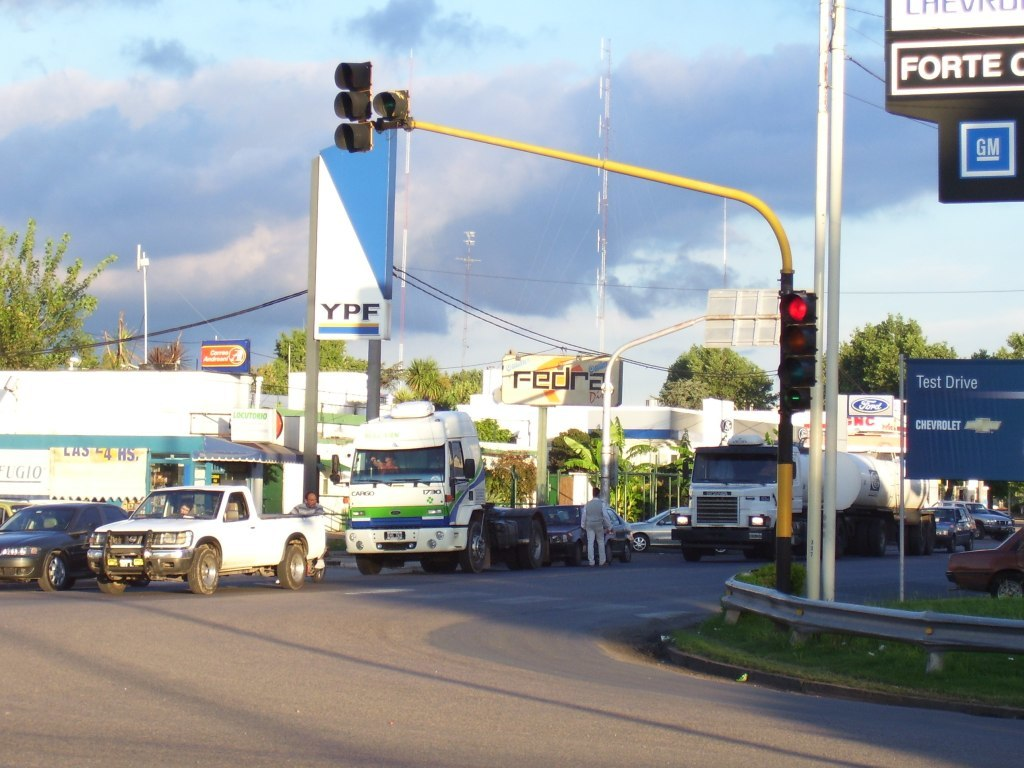Tree: (0, 216, 1023, 522)
